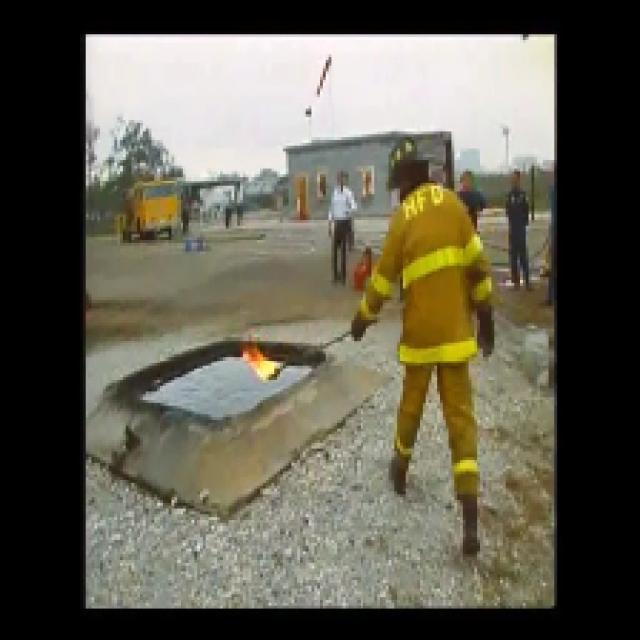Fire: (236, 336, 284, 384)
